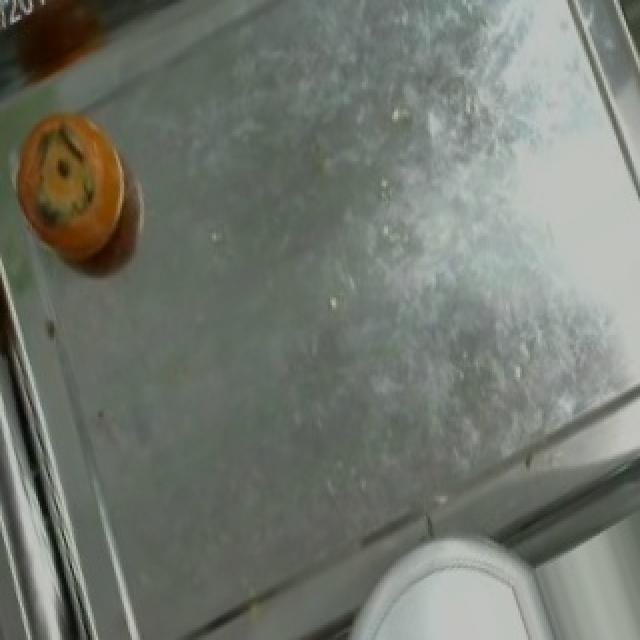Fruit: (0, 90, 152, 280), (350, 553, 554, 640)
